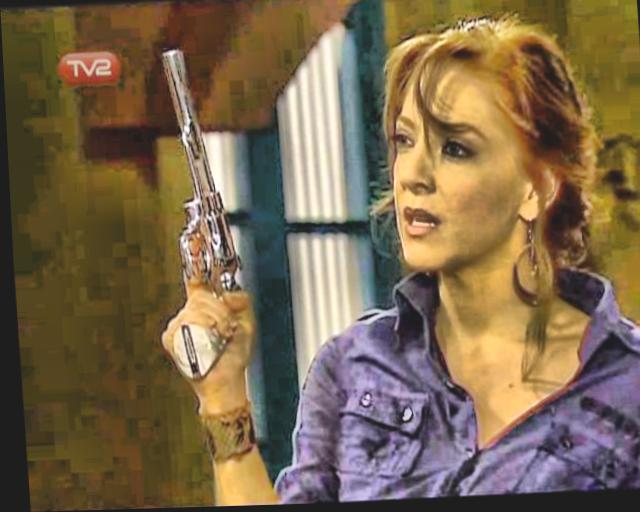pistol: (131, 46, 246, 381)
